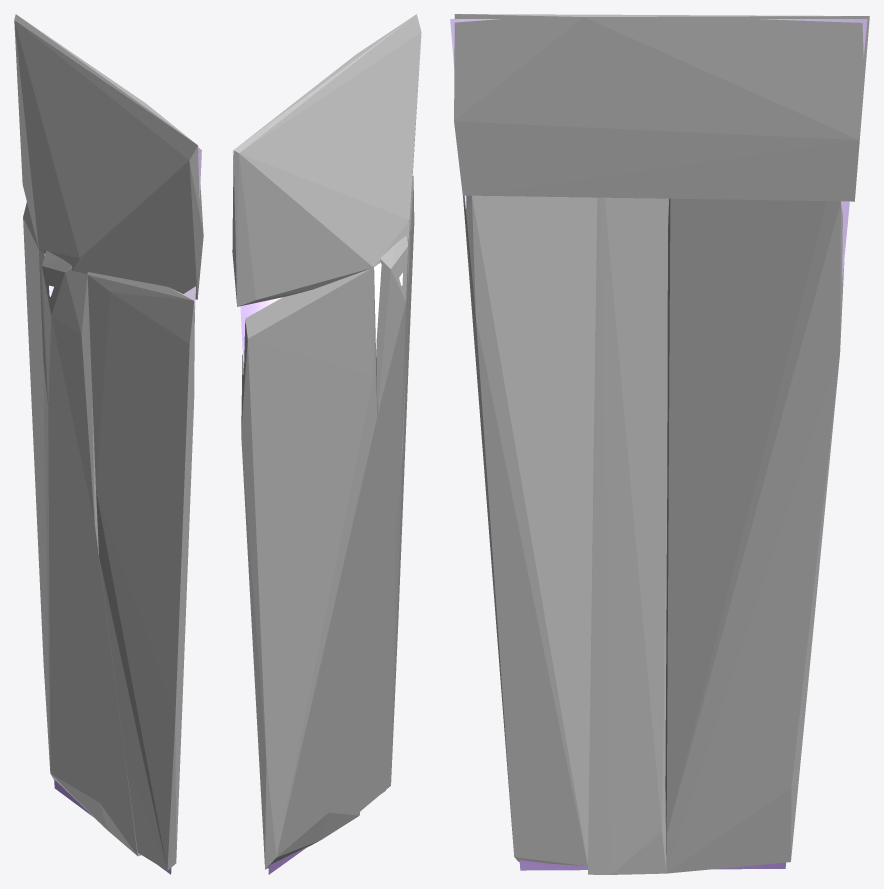
Rendered from SM_Env_Flowers_Line_04.fbx.
3 renders of one model, left to right at view 1: azimuth 30°, elevation 25°; view 2: azimuth 150°, elevation 25°; view 3: azimuth 270°, elevation 25°, orthographic. The views are drawn at different scales.
Parts seen in each view (by area): view 1: SM_Env_Flowers_Line_04_ConvexHulls, SM_Env_Flowers_Line_04; view 2: SM_Env_Flowers_Line_04_ConvexHulls, SM_Env_Flowers_Line_04; view 3: SM_Env_Flowers_Line_04_ConvexHulls, SM_Env_Flowers_Line_04.
Part boxes in pixels (left/top/right/bottom): SM_Env_Flowers_Line_04_ConvexHulls: left=14, top=14, right=203, bottom=870; SM_Env_Flowers_Line_04: left=44, top=148, right=201, bottom=874; SM_Env_Flowers_Line_04_ConvexHulls: left=232, top=14, right=421, bottom=869; SM_Env_Flowers_Line_04: left=232, top=150, right=402, bottom=874; SM_Env_Flowers_Line_04_ConvexHulls: left=454, top=14, right=869, bottom=874; SM_Env_Flowers_Line_04: left=450, top=19, right=867, bottom=870.
Size of the model in its own units: 7.19 by 31.23 by 70.47.
2 materials, 1 textured.
